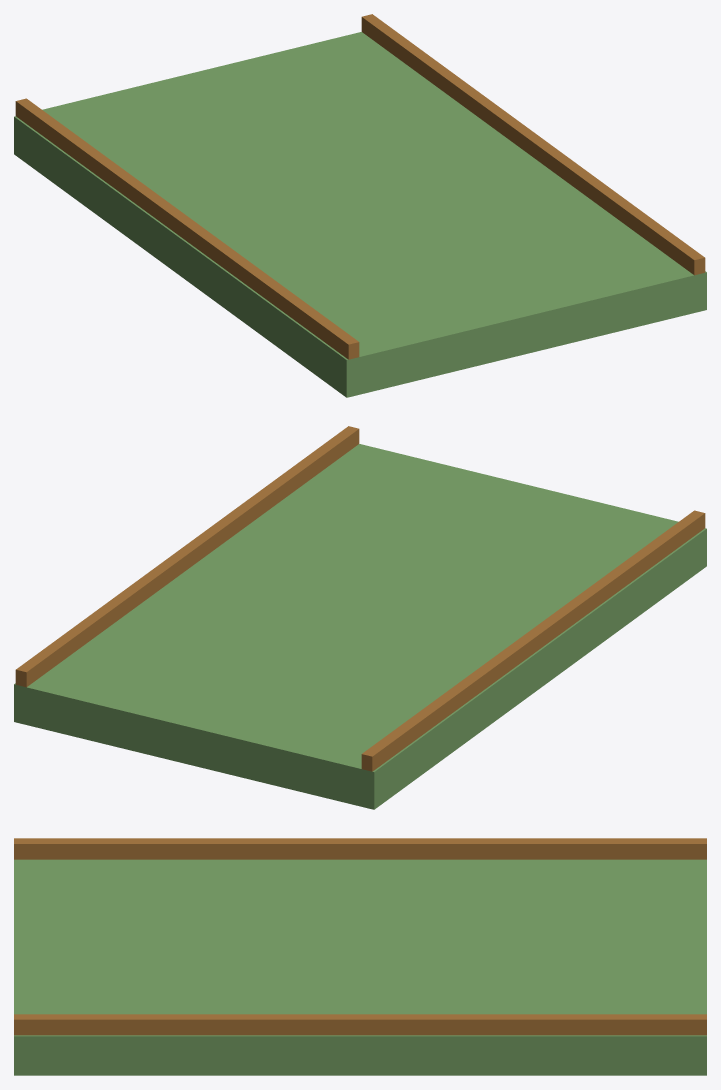
Rendered from deck.gltf.
3 views of the same model, one above another, from view 1: azimuth 30°, elevation 25°; view 2: azimuth 150°, elevation 25°; view 3: azimuth 270°, elevation 25° (orthographic). The views are drawn at different scales.
Visible parts, largest first — view 1: slab, rails; view 2: slab, rails; view 3: slab, rails.
Boxes of the visible parts, x1,y1,x2,y2 form: slab: (14, 32, 706, 397); rails: (15, 14, 705, 359); slab: (14, 444, 706, 809); rails: (15, 426, 705, 771); slab: (14, 859, 706, 1075); rails: (14, 838, 706, 1035).
Bounding box in the file's own units: 10 × 1.4 × 16.
